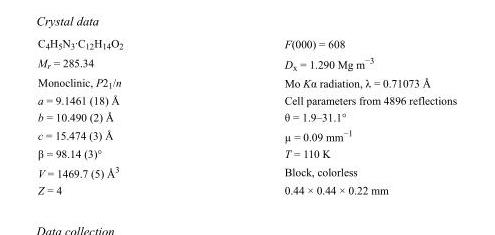table: (37, 36, 456, 195)
table column: (203, 36, 456, 195), (37, 36, 203, 195)
table row: (37, 52, 456, 73), (37, 161, 456, 181), (37, 125, 456, 144), (37, 73, 456, 91), (37, 91, 456, 108), (37, 108, 456, 125), (37, 144, 456, 161), (37, 36, 456, 52), (37, 181, 456, 195)
